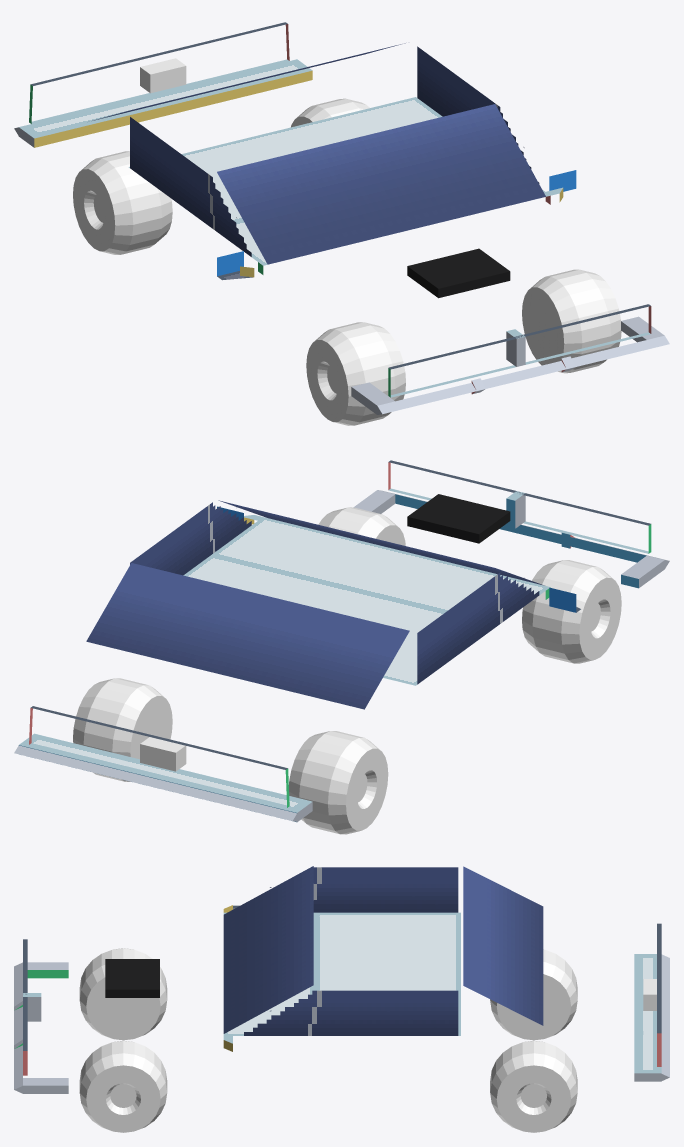
The model's file is dml_judge.gltf.
3 renders of one model, top to bottom at view 1: azimuth 30°, elevation 25°; view 2: azimuth 150°, elevation 25°; view 3: azimuth 270°, elevation 25°, orthographic. The views are drawn at different scales.
Visible parts, largest first — view 1: Body, wheel-default (×4), RearBumper, FrontBumper, HoodShaker, RearLicense, GrillSplitter; view 2: Body, wheel-default (×4), RearBumper, FrontBumper, HoodShaker, RearLicense, GrillSplitter; view 3: Body, wheel-default (×4), RearBumper, FrontBumper, HoodShaker, GrillSplitter, RearLicense.
Boxes of the visible parts, <box> form: Body: <box>29,22,651,397</box>; wheel-default (×4): <box>73,98,621,425</box>; RearBumper: <box>14,59,312,147</box>; FrontBumper: <box>351,316,669,414</box>; HoodShaker: <box>407,248,510,298</box>; RearLicense: <box>140,58,186,93</box>; GrillSplitter: <box>506,329,525,366</box>; Body: <box>29,460,651,807</box>; wheel-default (×4): <box>73,507,621,834</box>; RearBumper: <box>14,733,312,822</box>; FrontBumper: <box>353,490,669,588</box>; HoodShaker: <box>407,494,510,543</box>; RearLicense: <box>140,737,186,771</box>; GrillSplitter: <box>506,491,525,528</box>; Body: <box>23,866,661,1075</box>; wheel-default (×4): <box>79,948,577,1132</box>; RearBumper: <box>634,954,669,1081</box>; FrontBumper: <box>14,962,68,1093</box>; HoodShaker: <box>105,959,159,997</box>; GrillSplitter: <box>23,993,41,1021</box>; RearLicense: <box>643,979,656,1010</box>.
Bounding box in the file's own units: 2.5 × 1.17 × 4.49.
5 materials, 4 textured.
